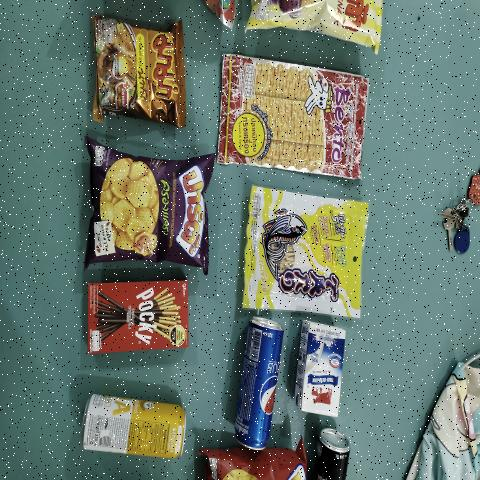bento_red: (228, 66, 364, 167)
mama: (94, 16, 183, 120)
party_purple: (96, 150, 212, 265)
pepsi_blue: (246, 316, 279, 448)
pokki: (85, 280, 194, 354)
singha_yellow: (81, 388, 195, 468)
taro_yellow: (252, 192, 364, 320)
thai_denmark: (294, 316, 344, 419)
